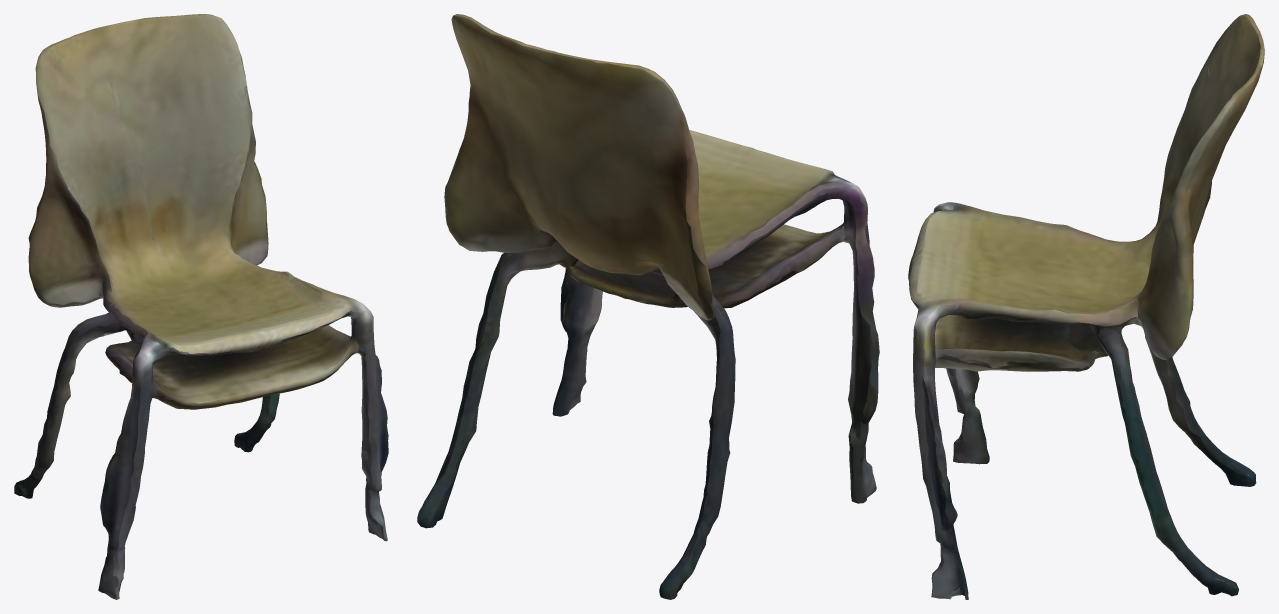
The picture shows the model from 3 angles, left to right: view 1: azimuth 30°, elevation 25°; view 2: azimuth 150°, elevation 25°; view 3: azimuth 270°, elevation 25°; orthographic projection. The views are drawn at different scales.
Visible parts, largest first — view 1: world; view 2: world; view 3: world.
Part boxes in pixels (x1,y1,x2,y2): world: (14, 14, 388, 599); world: (417, 14, 879, 599); world: (908, 14, 1264, 599).
Bounding box in the file's own units: 0.3358 × 0.5108 × 0.3415.
1 material, 1 textured.
